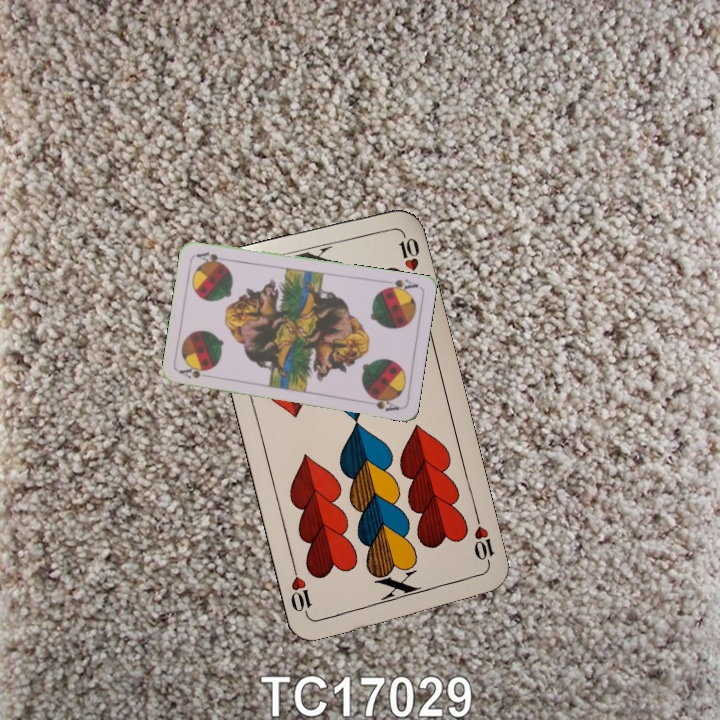H10: (470, 511, 497, 570)
SA: (379, 275, 421, 296), (176, 365, 216, 381)
